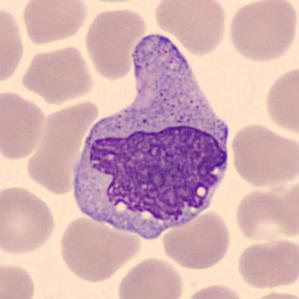Monocyte: (71, 21, 236, 242)
RBC: (56, 214, 141, 284), (82, 5, 148, 80), (18, 43, 96, 105), (228, 122, 298, 189), (225, 0, 298, 64), (160, 208, 234, 271), (152, 0, 229, 57), (0, 183, 57, 257), (233, 185, 297, 242), (234, 236, 298, 291), (0, 88, 47, 162), (19, 0, 89, 46), (114, 255, 186, 299), (262, 64, 299, 136), (0, 3, 27, 89), (0, 259, 38, 298), (180, 281, 247, 299), (243, 289, 298, 299)
